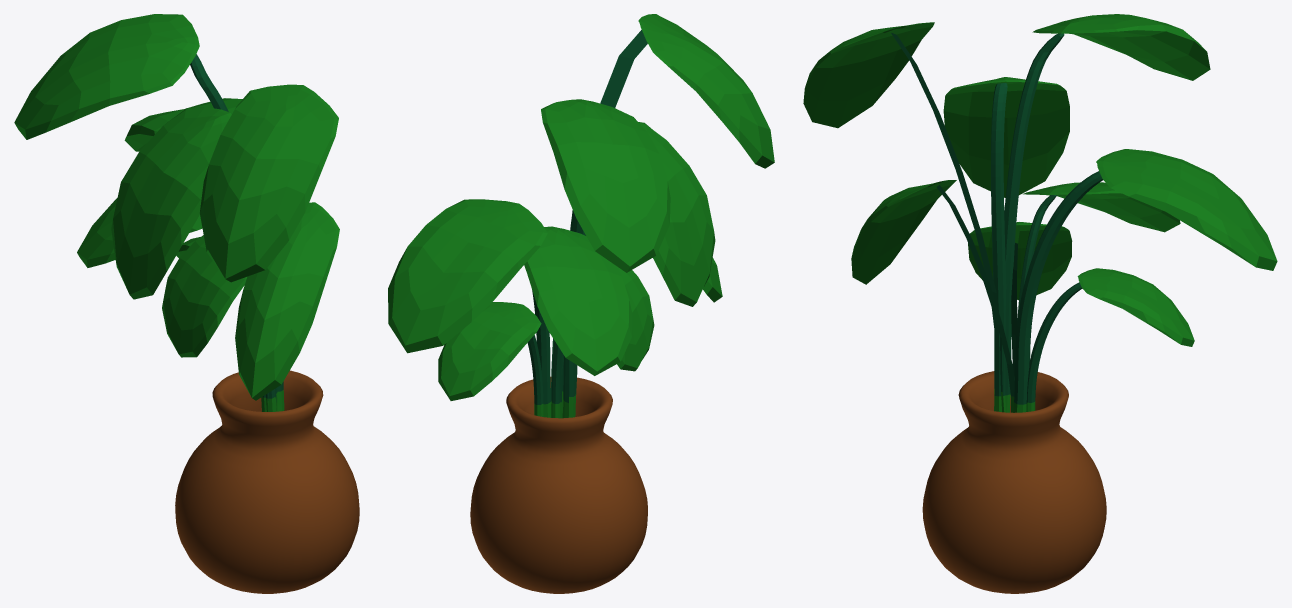
File: Plant.glb
The picture shows the model from 3 angles, left to right: view 1: azimuth 30°, elevation 25°; view 2: azimuth 150°, elevation 25°; view 3: azimuth 270°, elevation 25°; orthographic projection. The views are drawn at different scales.
Visible parts, largest first — view 1: Plane.007; view 2: Plane.007; view 3: Plane.007.
Boxes of the visible parts, x1=… form: Plane.007: x1=14, y1=14, x2=359, y2=593; Plane.007: x1=388, y1=14, x2=774, y2=593; Plane.007: x1=803, y1=14, x2=1277, y2=593.
Bounding box in the file's own units: 3.35 × 6.93 × 5.51.
